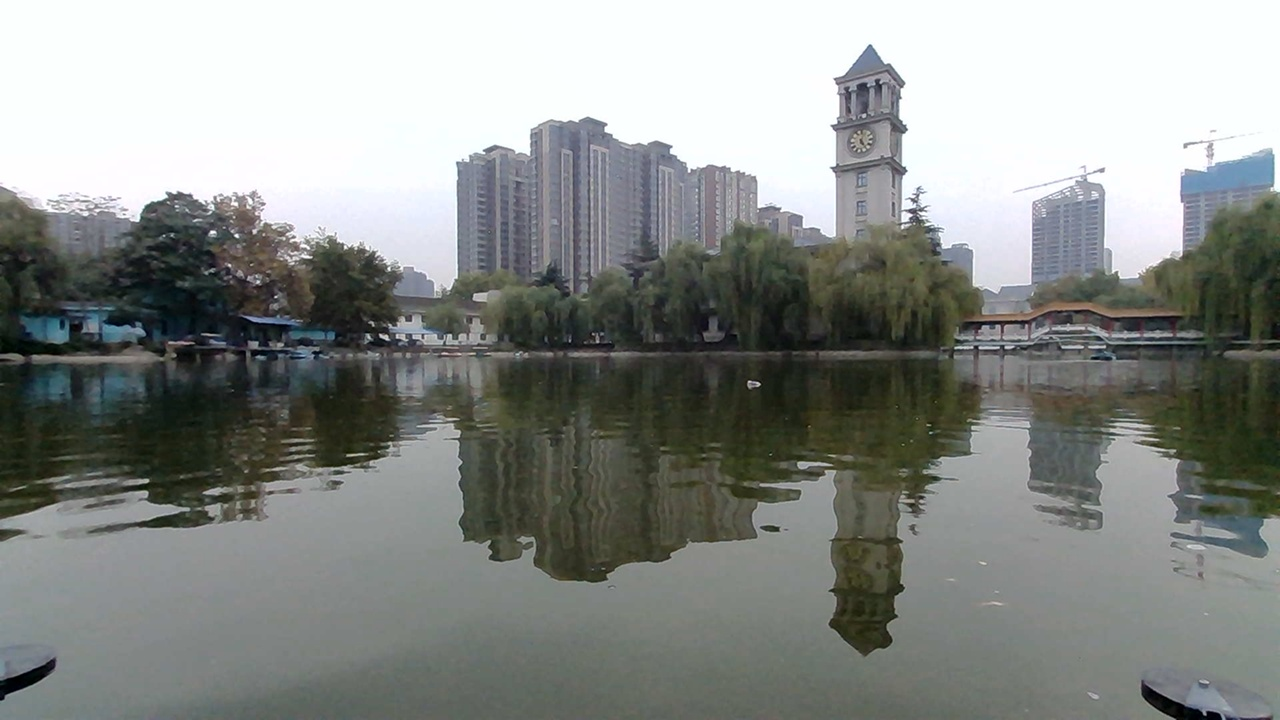bottle: (729, 368, 768, 398)
